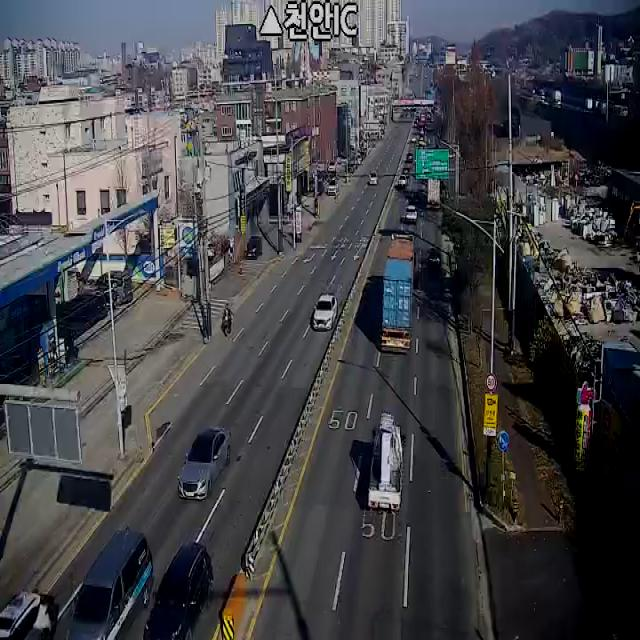Car: (65, 529, 154, 640), (141, 542, 213, 640), (178, 425, 232, 501), (0, 590, 51, 640), (95, 270, 133, 303), (312, 294, 338, 330), (245, 235, 263, 259), (428, 248, 440, 268), (405, 205, 417, 225), (328, 180, 338, 196), (369, 170, 378, 185), (398, 174, 407, 188), (402, 167, 410, 178), (406, 152, 413, 162)
Motorcycle: (222, 301, 232, 338)
Truck: (380, 232, 416, 354), (368, 412, 403, 512), (428, 179, 440, 210)
